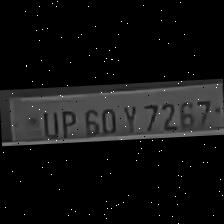0: (97, 104, 120, 134)
2: (157, 99, 177, 131)
6: (79, 105, 100, 137), (175, 96, 195, 128)
7: (138, 101, 159, 133), (192, 96, 212, 127)
P: (55, 106, 78, 139)
U: (38, 108, 57, 139)
Y: (120, 102, 140, 134)
